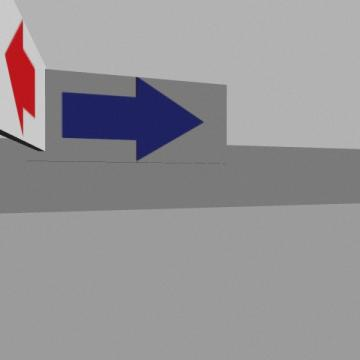blue_right: (62, 78, 202, 160)
red_left: (5, 21, 35, 134)
